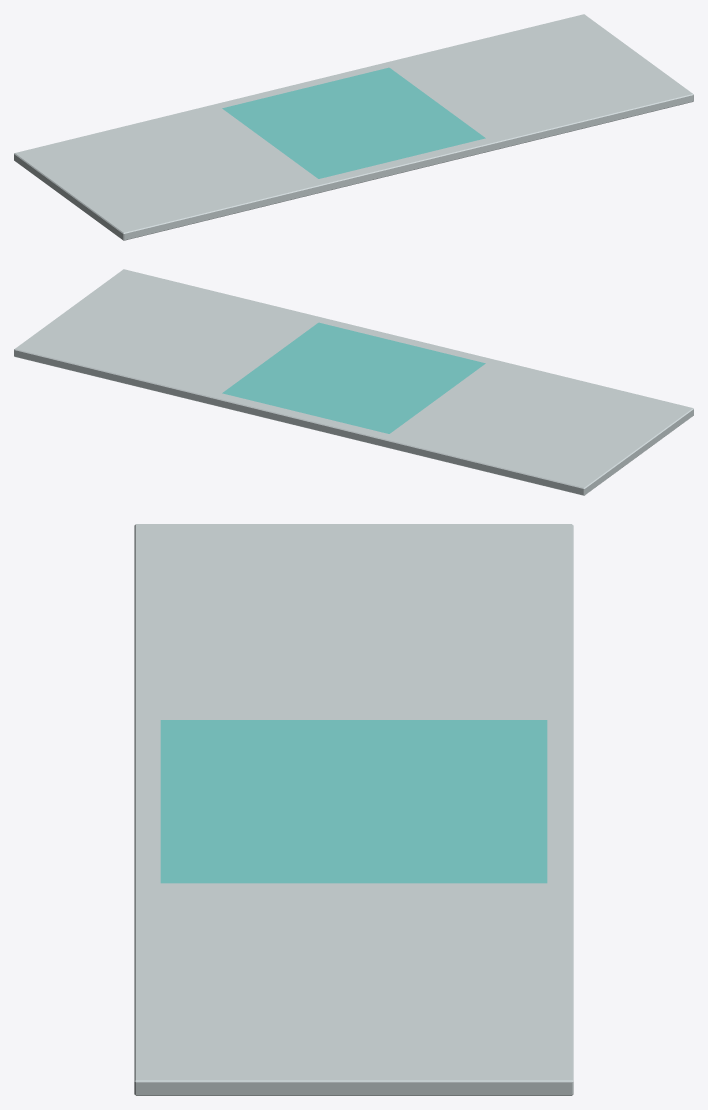
File: VLAB_slide.fbx
The picture shows the model from 3 angles, top to bottom: view 1: azimuth 30°, elevation 25°; view 2: azimuth 150°, elevation 25°; view 3: azimuth 270°, elevation 25°; orthographic projection. The views are drawn at different scales.
Parts seen in each view (by area): view 1: VLAB_slide_GlassSlide_VIS, VLAB_slide_SpecimenSlot_VIS; view 2: VLAB_slide_GlassSlide_VIS, VLAB_slide_SpecimenSlot_VIS; view 3: VLAB_slide_GlassSlide_VIS, VLAB_slide_SpecimenSlot_VIS.
Part boxes in pixels (x1,y1,x2,y2): VLAB_slide_GlassSlide_VIS: (14, 14, 693, 240); VLAB_slide_SpecimenSlot_VIS: (222, 67, 485, 178); VLAB_slide_GlassSlide_VIS: (14, 269, 693, 495); VLAB_slide_SpecimenSlot_VIS: (222, 322, 485, 433); VLAB_slide_GlassSlide_VIS: (134, 524, 573, 1095); VLAB_slide_SpecimenSlot_VIS: (160, 720, 547, 883).
Bounding box in the file's own units: 0.075 × 0.00102 × 0.025.
